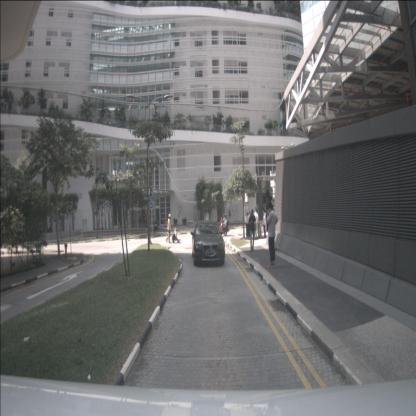human-pedestrian-adult: (266, 201, 278, 269), (249, 209, 256, 252), (253, 209, 259, 239), (262, 207, 267, 239), (247, 211, 252, 238), (245, 211, 250, 238), (228, 209, 231, 224)
vehicle-car: (192, 220, 225, 266)
vehicle-motorcycle: (217, 213, 230, 238)
